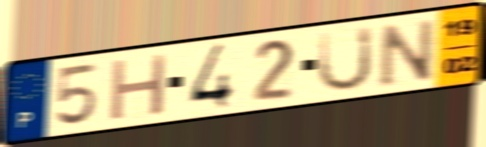2: (251, 37, 297, 103)
4: (185, 41, 238, 112)
5: (54, 61, 100, 127)
H: (107, 50, 170, 124)
N: (378, 16, 437, 90)
U: (315, 24, 376, 95)
